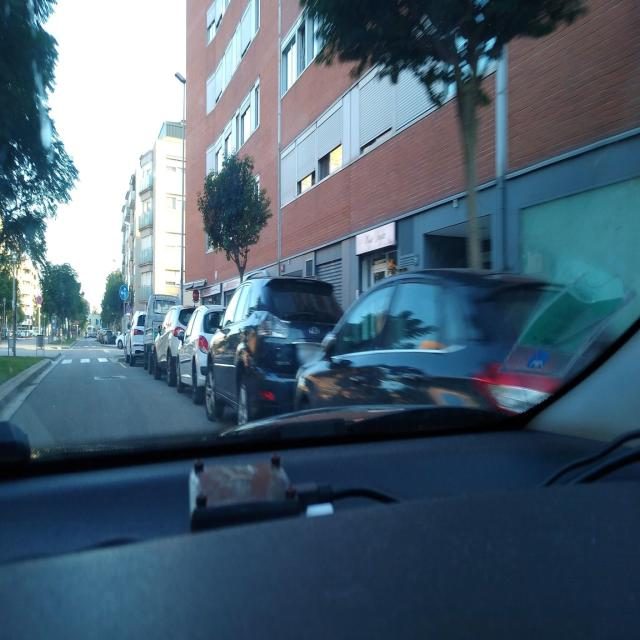forb_stopping: (36, 295, 42, 304), (125, 305, 131, 313)
